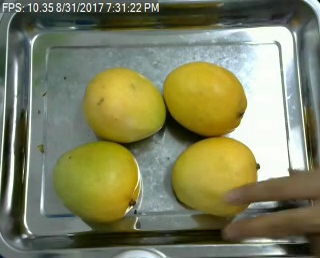Mango: (55, 143, 139, 223), (173, 137, 257, 214), (82, 67, 164, 141), (164, 62, 246, 135)
